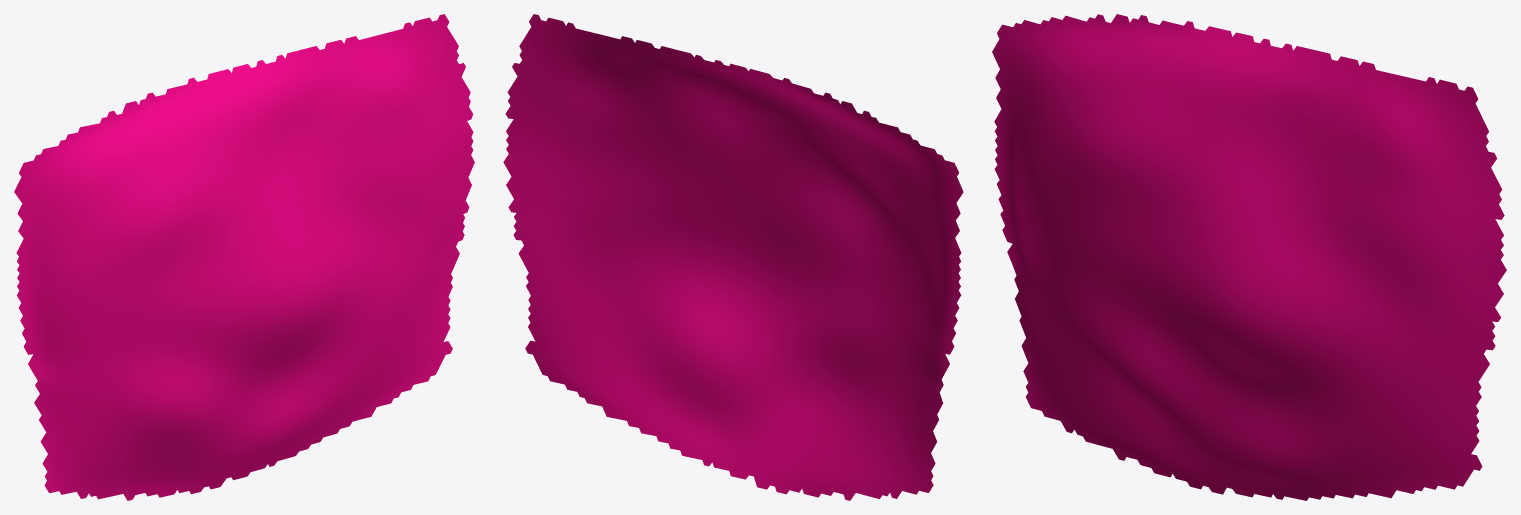
File: SM_GPUI_seederground_120.fbx
3 renders of one model, left to right at view 1: azimuth 30°, elevation 25°; view 2: azimuth 150°, elevation 25°; view 3: azimuth 330°, elevation 25°, orthographic. The views are drawn at different scales.
Visible parts, largest first — view 1: SM_GPUI_seederground_120; view 2: SM_GPUI_seederground_120; view 3: SM_GPUI_seederground_120.
Boxes of the visible parts, left/top/right/bottom form: SM_GPUI_seederground_120: left=14, top=14, right=474, bottom=500; SM_GPUI_seederground_120: left=503, top=14, right=963, bottom=500; SM_GPUI_seederground_120: left=992, top=14, right=1506, bottom=500.
Size of the model in its own units: 4586 by 3983 by 422.
1 material, 1 textured.
